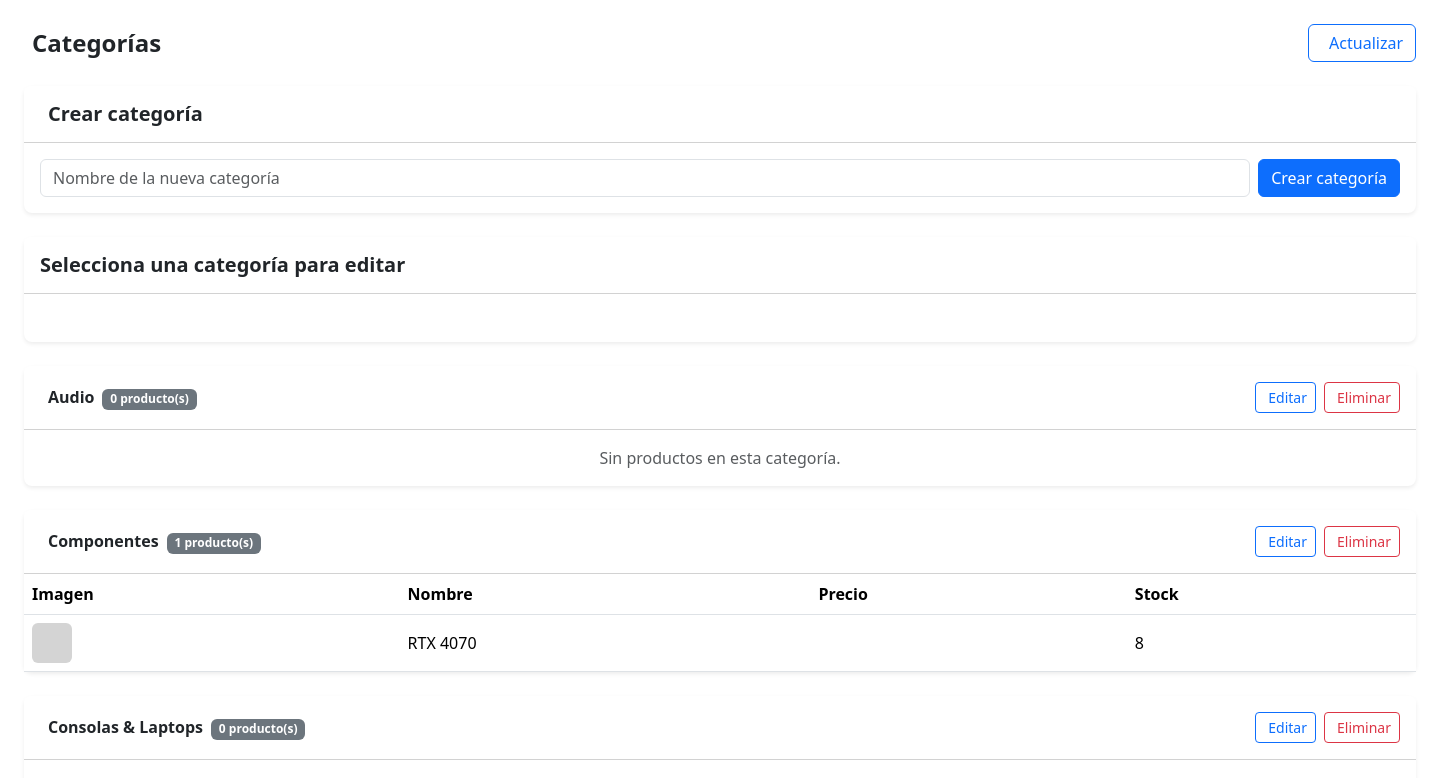
Test: AdminCategorias › crear › crea la categoría enviando solo la etiqueta (ms-categoria genera el valor)
Step 1. Type "Tarjetas de video" into the field with placeholder "Nombre de la nueva categoría" → {"x": 645, "y": 178}, box [40,159,1250,197]
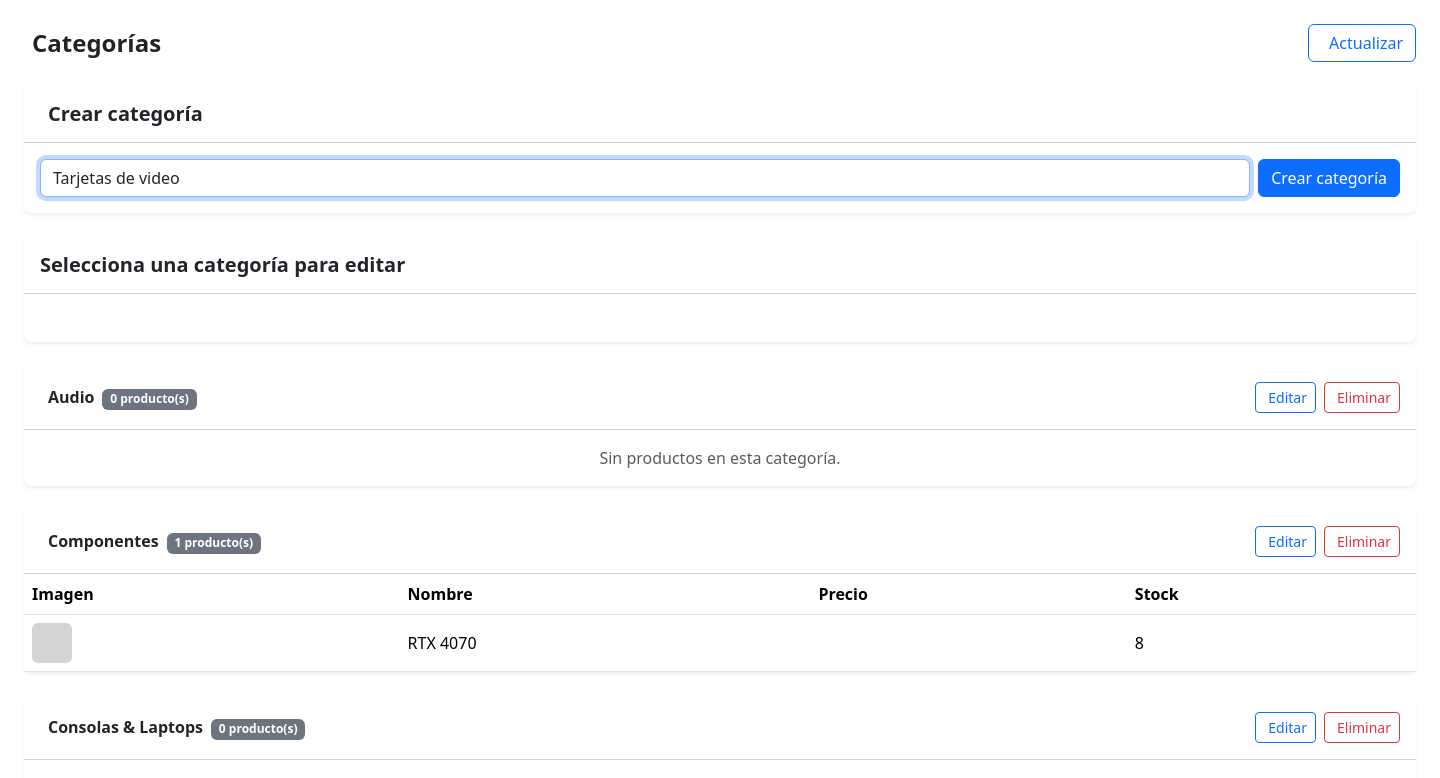
Step 2. Click the button "Crear categoría" → {"x": 1329, "y": 178}, box [1258,159,1400,197]
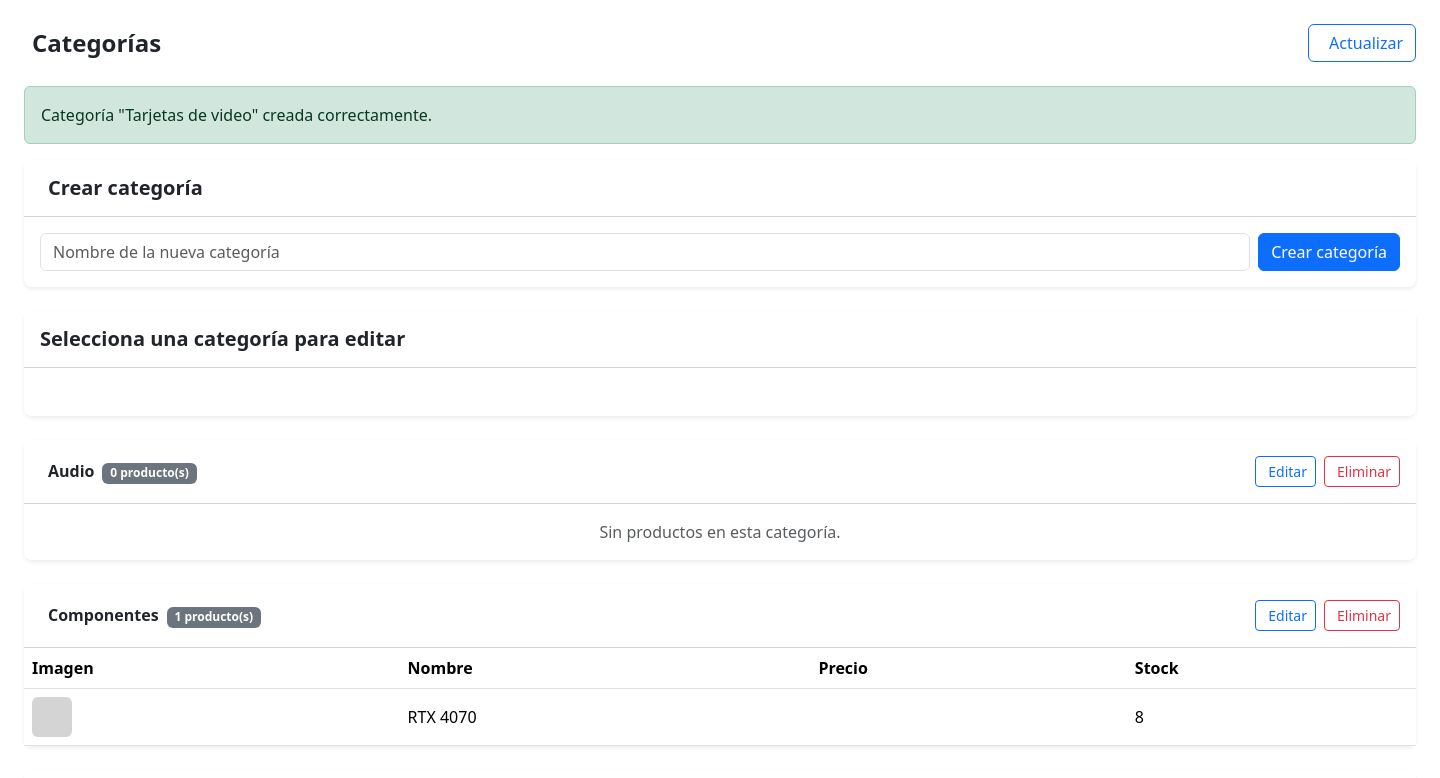
Result: the text "Categoría \"Tarjetas de video\" creada correctamente." is shown at [24,86,1416,144]
